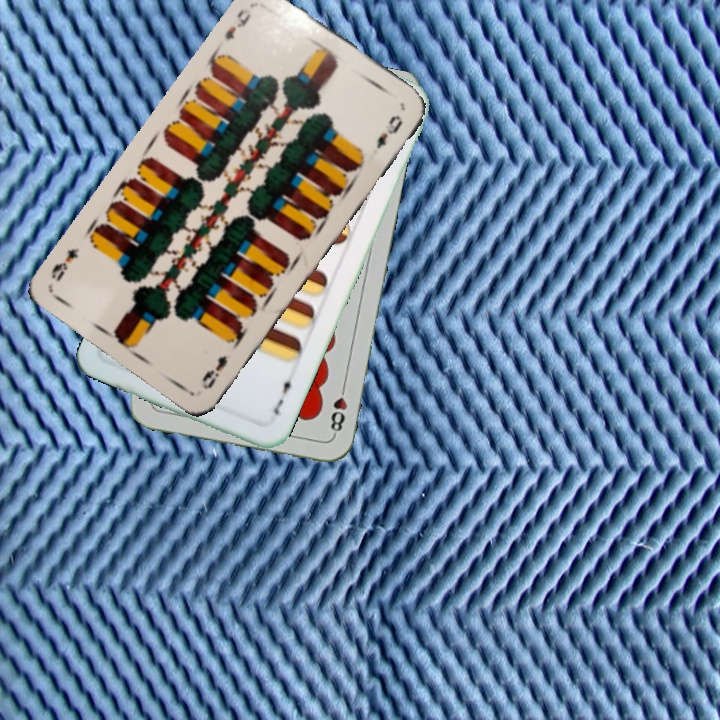E7: (269, 372, 298, 418)
E9: (198, 351, 230, 393), (220, 4, 254, 43)
H8: (326, 380, 350, 438)
